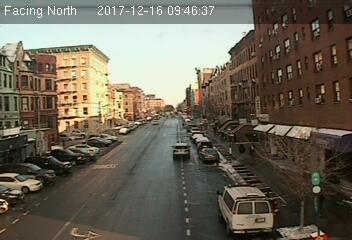car: (172, 142, 191, 157), (199, 148, 219, 161)
police: (218, 182, 278, 237)
